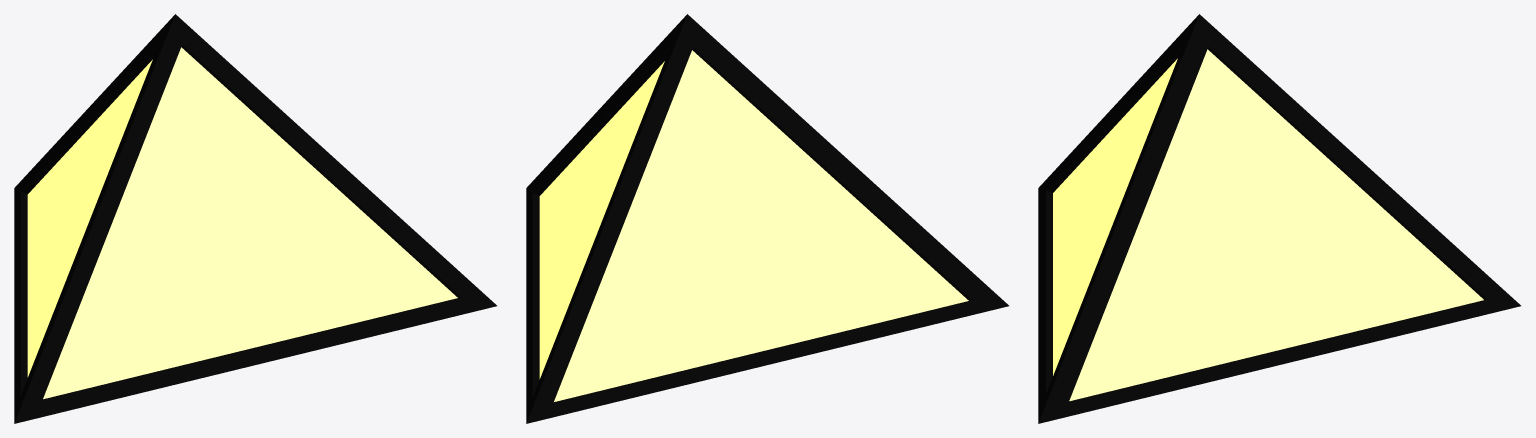
The model's file is SFI0310016.fbx.
3 views of the same model, side by side, from view 1: azimuth 30°, elevation 25°; view 2: azimuth 150°, elevation 25°; view 3: azimuth 270°, elevation 25° (orthographic).
Visible parts, largest first — view 1: smSFI0310016; view 2: smSFI0310016; view 3: smSFI0310016.
Boxes of the visible parts, x1=… form: smSFI0310016: x1=14, y1=14, x2=496, y2=423; smSFI0310016: x1=526, y1=14, x2=1008, y2=423; smSFI0310016: x1=1038, y1=14, x2=1520, y2=423.
Bounding box in the file's own units: 173 × 100 × 150.
